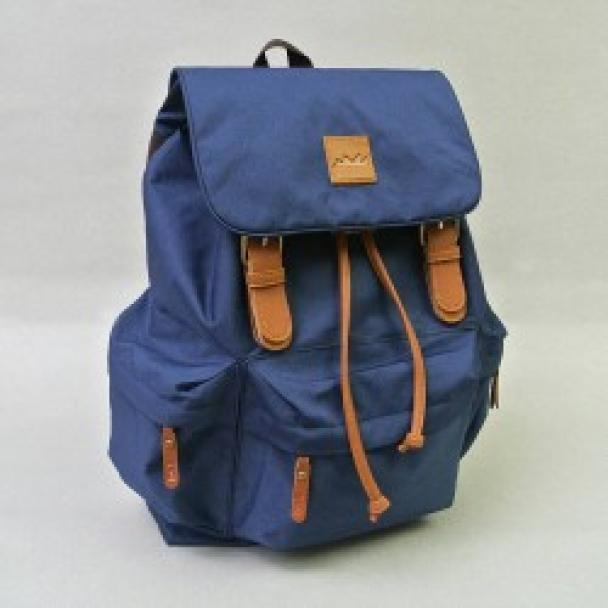Tas: (109, 66, 502, 555)
